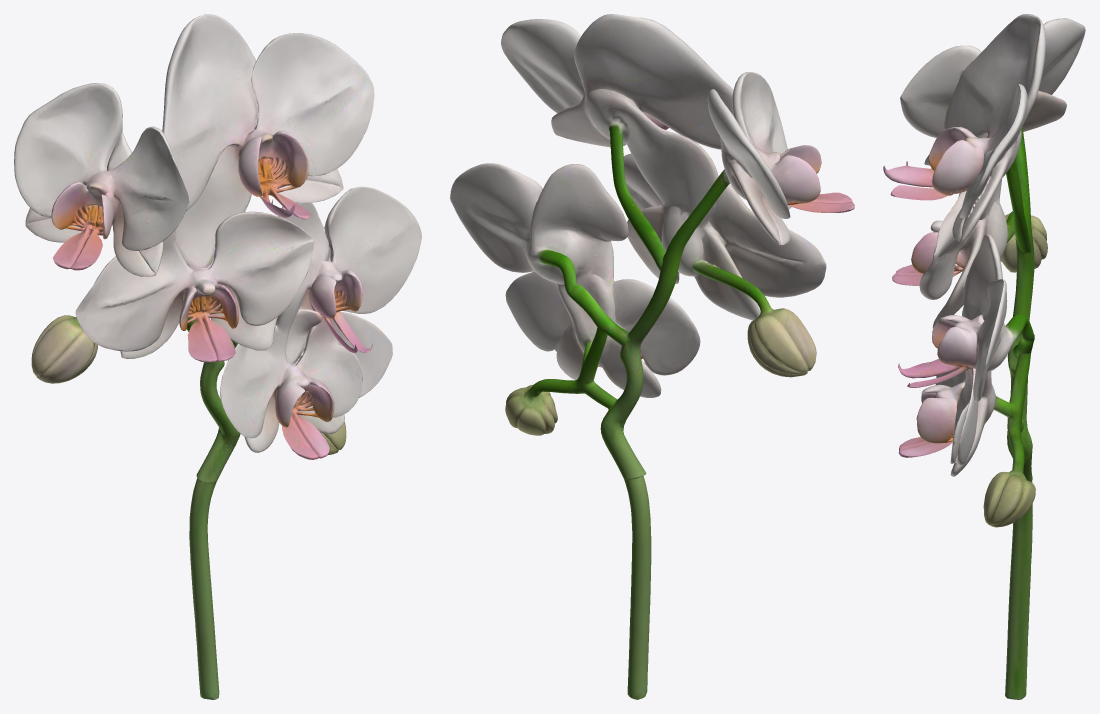
File: white_orchid.glb
3 views of the same model, side by side, from view 1: azimuth 30°, elevation 25°; view 2: azimuth 150°, elevation 25°; view 3: azimuth 270°, elevation 25° (orthographic). The views are drawn at different scales.
Parts seen in each view (by area): view 1: model; view 2: model; view 3: model.
Part boxes in pixels (x1,y1,x2,y2): model: (14, 14, 421, 699); model: (450, 14, 854, 699); model: (883, 14, 1085, 699).
Bounding box in the file's own units: 1.12 × 1.9 × 0.5123.
1 material, 1 textured.
